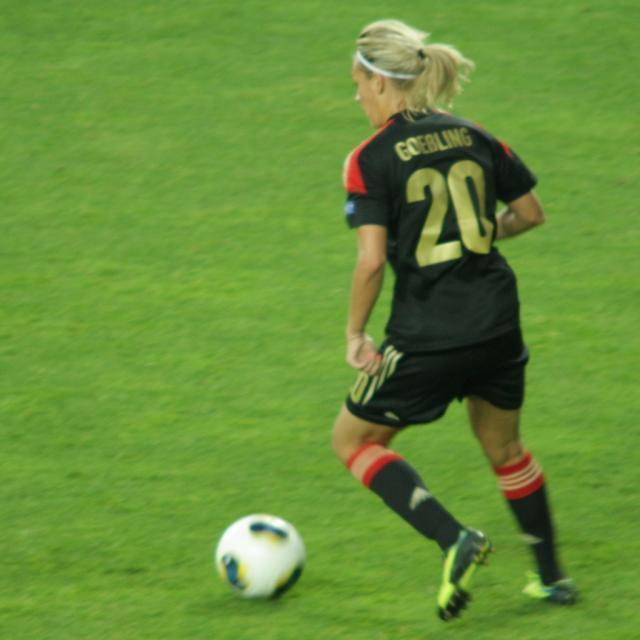ball: (216, 509, 305, 598)
